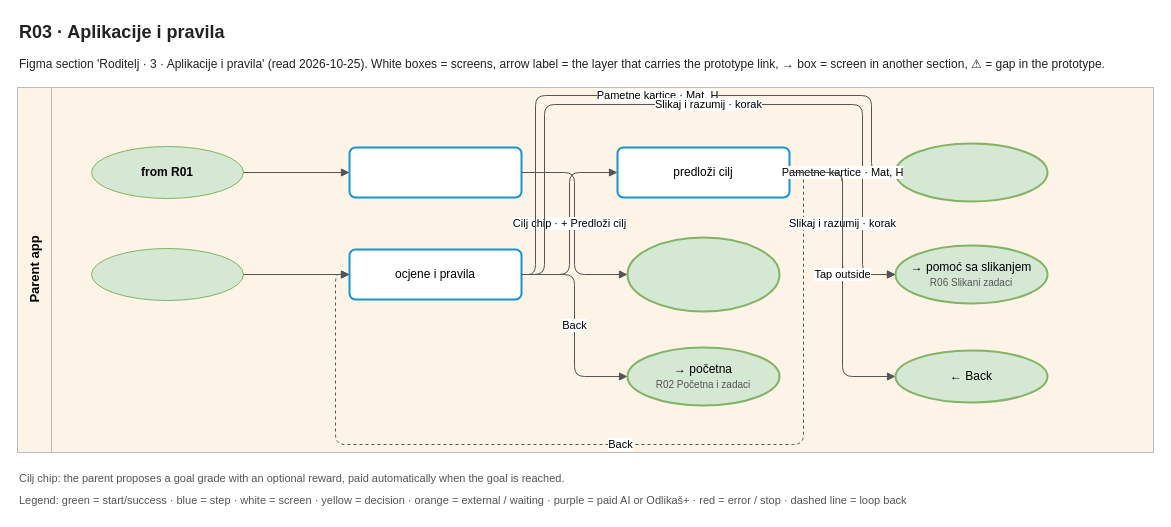
This 1171x527 diagram has some shape labels left out. The shapes that lost their labels are listed below. From the top down, each one's box as (x1, y1, x2, y2) in pixels, then its label:
(348, 146, 522, 198): aplikacije + bottom bar
(894, 142, 1048, 202): → pametne obavijesti R05 Pametne obavijesti
(90, 248, 244, 300): from R02, R06, R08
(626, 236, 780, 312): Bottom bar (tabs · Pitaj Josu · Slikaj)
